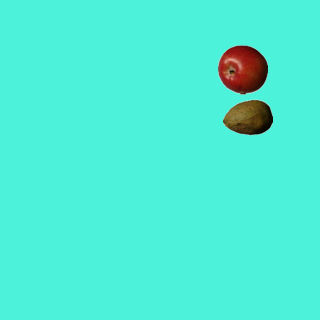Apple Braeburn: (217, 44, 267, 94)
Papaya: (222, 92, 272, 142)
